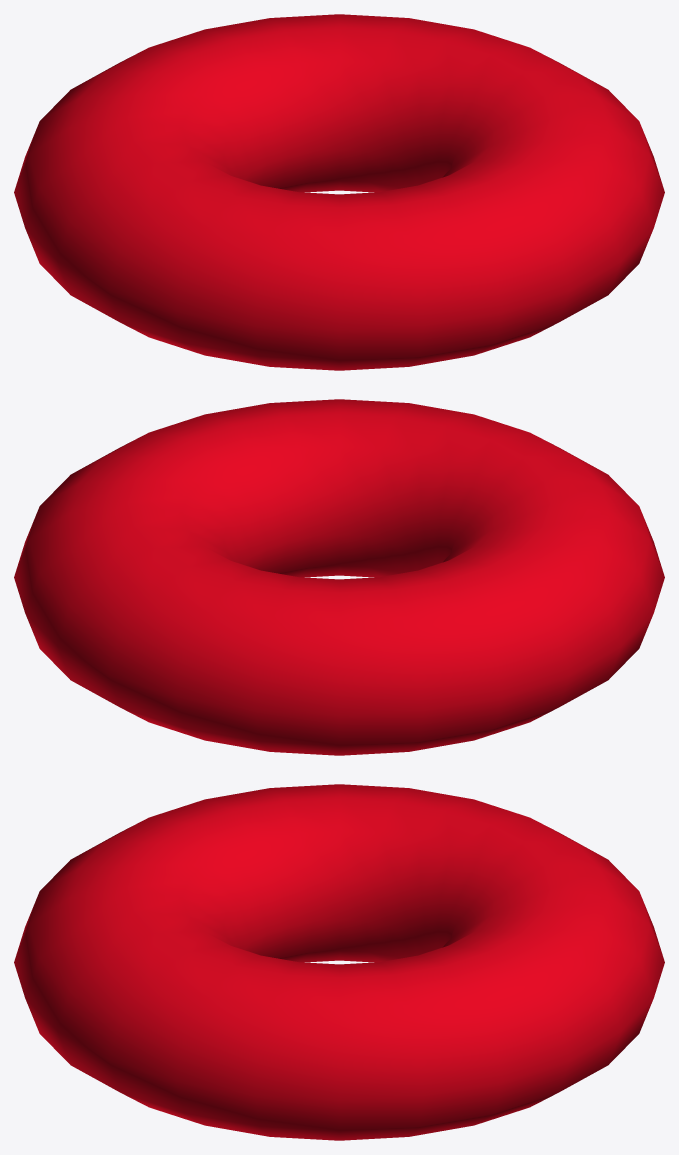
File: toroideuno.obj
3 views of the same model, one above another, from view 1: azimuth 30°, elevation 25°; view 2: azimuth 150°, elevation 25°; view 3: azimuth 270°, elevation 25° (orthographic).
Visible parts, largest first — view 1: Torus001; view 2: Torus001; view 3: Torus001.
Boxes of the visible parts, box(x1,y1,x2,y2) form: Torus001: box(14, 14, 664, 370); Torus001: box(14, 399, 664, 755); Torus001: box(14, 784, 664, 1140).
Size of the model in its own units: 7.28 by 1.84 by 7.28.
